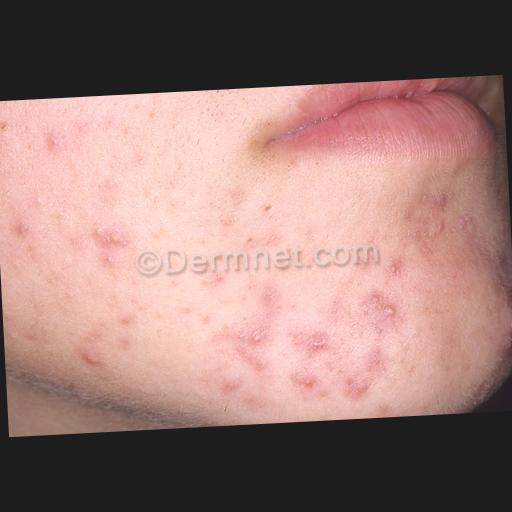Skin_Lesion: (228, 312, 273, 376), (90, 222, 130, 271), (252, 270, 292, 314), (297, 318, 334, 360), (365, 290, 401, 332), (41, 120, 74, 158), (79, 336, 107, 372), (342, 366, 366, 404), (291, 363, 318, 396), (202, 268, 228, 294), (10, 214, 34, 242), (365, 344, 386, 372), (258, 195, 280, 219), (387, 258, 407, 281), (497, 306, 512, 332), (436, 190, 454, 208), (222, 376, 236, 398), (0, 114, 13, 137), (301, 84, 322, 92), (242, 236, 254, 248)
